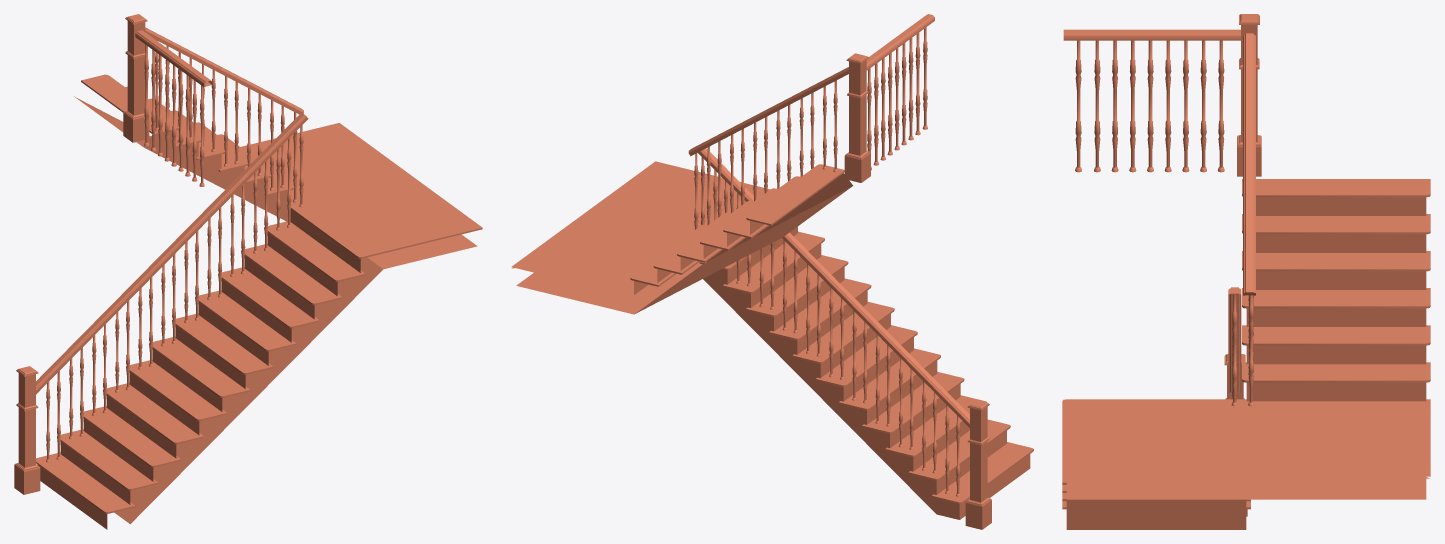
Rendered from Staircase.fbx.
3 renders of one model, left to right at view 1: azimuth 30°, elevation 25°; view 2: azimuth 150°, elevation 25°; view 3: azimuth 270°, elevation 25°, orthographic. The views are drawn at different scales.
Visible parts, largest first — view 1: Old_House_001.006; view 2: Old_House_001.006; view 3: Old_House_001.006.
Boxes of the visible parts, x1,y1,x2,y2 form: Old_House_001.006: [14, 14, 482, 529]; Old_House_001.006: [511, 14, 1033, 529]; Old_House_001.006: [1062, 14, 1430, 529].
Size of the model in its own units: 385 by 408 by 241.
